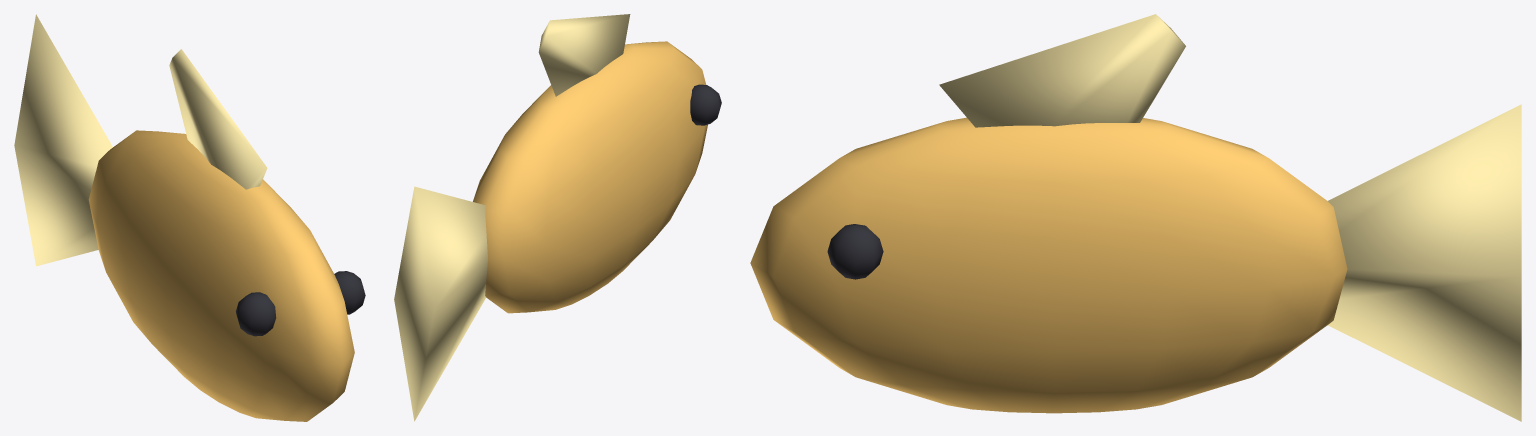
Rendered from fish.glb.
3 renders of one model, left to right at view 1: azimuth 30°, elevation 25°; view 2: azimuth 150°, elevation 25°; view 3: azimuth 270°, elevation 25°, orthographic. The views are drawn at different scales.
Parts seen in each view (by area): view 1: fish; view 2: fish; view 3: fish.
Boxes of the visible parts, x1=… form: fish: x1=14, y1=14, x2=365, y2=421; fish: x1=394, y1=14, x2=721, y2=421; fish: x1=750, y1=14, x2=1521, y2=421.
Bounding box in the file's own units: 0.078 × 0.1926 × 0.33.
